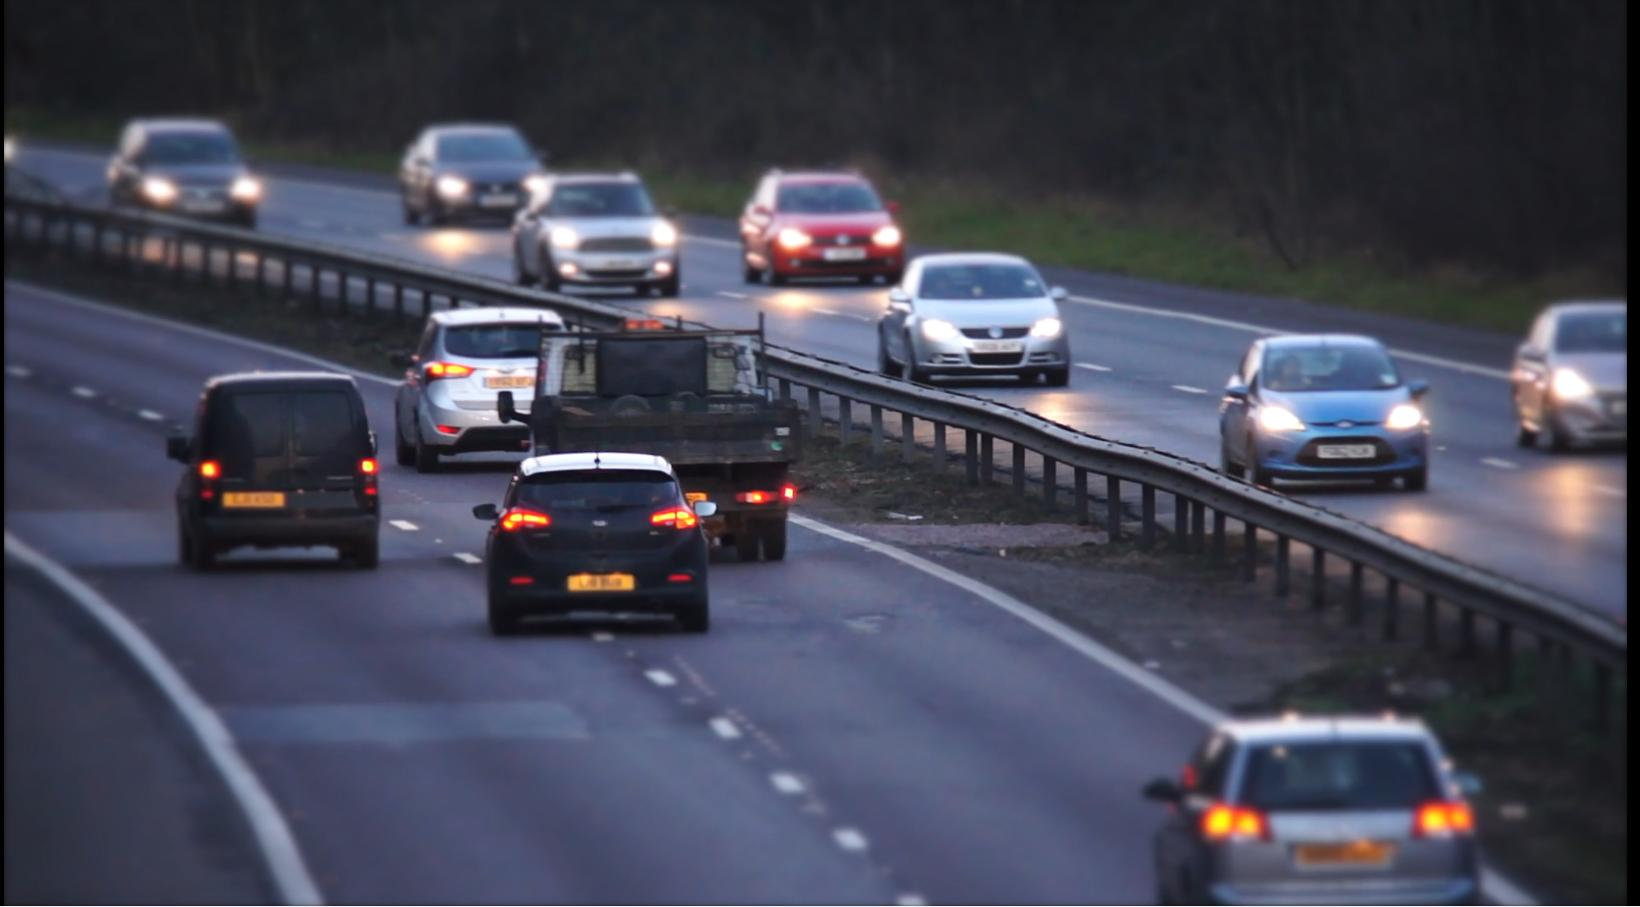car: (1148, 658, 1516, 907), (52, 78, 286, 306), (716, 138, 897, 327), (398, 306, 561, 460)
